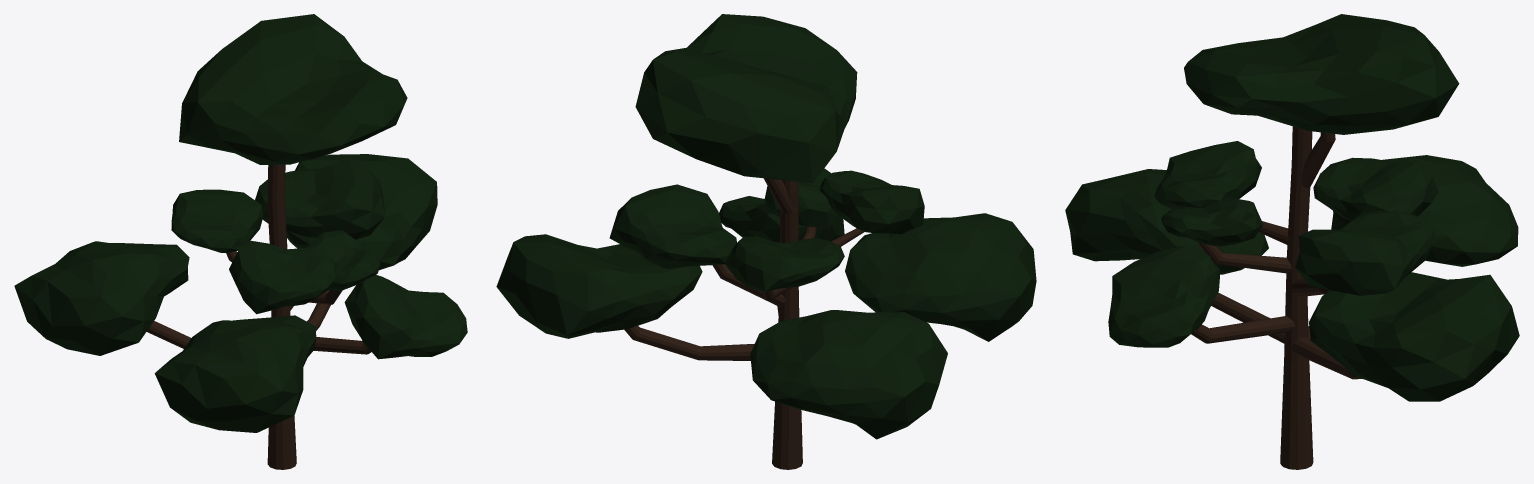
File: SM_light_tree_03.fbx
3 views of the same model, side by side, from view 1: azimuth 30°, elevation 25°; view 2: azimuth 150°, elevation 25°; view 3: azimuth 270°, elevation 25° (orthographic). The views are drawn at different scales.
Visible parts, largest first — view 1: light_tree_03; view 2: light_tree_03; view 3: light_tree_03.
Part boxes in pixels (left/top/right/bottom): light_tree_03: left=14, top=14, right=467, bottom=469; light_tree_03: left=496, top=14, right=1036, bottom=469; light_tree_03: left=1065, top=14, right=1519, bottom=469.
Size of the model in its own units: 75.45 by 71.99 by 65.72.
